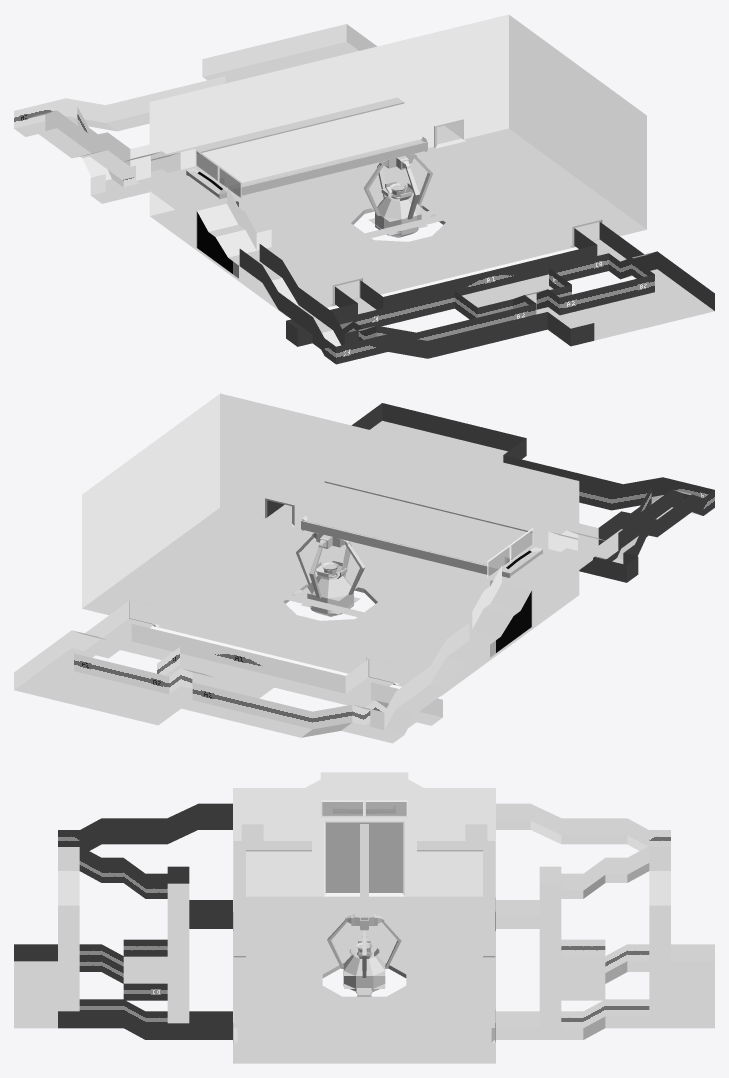
File: Level_Drop_pod_Hanger.glb
3 renders of one model, top to bottom at view 1: azimuth 30°, elevation 25°; view 2: azimuth 150°, elevation 25°; view 3: azimuth 270°, elevation 25°, orthographic. The views are drawn at different scales.
Visible parts, largest first — view 1: TeamA_BigWallSouth-col, Center_Back_Wall-col, TeamA_BigWallNorth-col, Center_Floor_bottomL-col, Center_Floor_bottomR-col, Center_Floor_topL-col, Center_Floor_topR-col, TeamB_Floor-col.009, TeamB_Wall-col.014, Center_control_roomL-col, TeamA_Wall-col.011, Center_WalkwayL-col (+35 smaller); view 2: TeamB_BigWallSouth-col, Center_Back_Wall-col, TeamB_BigWallNorth-col, Center_Floor_bottomR-col, Center_Floor_bottomL-col, Center_Floor_topR-col, Center_Floor_topL-col, TeamA_Floor-col, Center_control_roomR-col, TeamB_Wall-col.013, TeamA_Floor-col.004, TeamA_Floor-col.008 (+32 smaller); view 3: Center_Floor_bottomR-col, Center_Floor_bottomL-col, Center_Floor_topL-col, Center_Floor_topR-col, BackCenter_wall_left-col, BackCenter_wall_right-col, Plane, TeamA_Floor-col, TeamB_Floor-col.009, TeamA_Floor-col.008, TeamA_Wall-col.022, TeamA_Floor-col.005 (+47 smaller).
Part boxes in pixels (bbox=[...]): TeamA_BigWallSouth-col: bbox=[329, 14, 508, 161]; Center_Back_Wall-col: bbox=[509, 15, 646, 229]; TeamA_BigWallNorth-col: bbox=[149, 58, 329, 215]; Center_Floor_bottomL-col: bbox=[421, 179, 646, 273]; Center_Floor_bottomR-col: bbox=[332, 128, 577, 213]; Center_Floor_topL-col: bbox=[219, 231, 466, 317]; Center_Floor_topR-col: bbox=[150, 174, 374, 266]; TeamB_Floor-col.009: bbox=[555, 286, 714, 340]; TeamB_Wall-col.014: bbox=[428, 312, 594, 358]; Center_control_roomL-col: bbox=[159, 183, 282, 265]; TeamA_Wall-col.011: bbox=[226, 24, 369, 70]; Center_WalkwayL-col: bbox=[253, 193, 534, 258]; TeamB_BigWallSouth-col: bbox=[220, 393, 399, 540]; Center_Back_Wall-col: bbox=[82, 394, 219, 608]; TeamB_BigWallNorth-col: bbox=[399, 437, 579, 594]; Center_Floor_bottomR-col: bbox=[82, 558, 307, 652]; Center_Floor_bottomL-col: bbox=[151, 507, 396, 592]; Center_Floor_topR-col: bbox=[262, 610, 509, 696]; Center_Floor_topL-col: bbox=[354, 553, 578, 645]; TeamA_Floor-col: bbox=[14, 665, 192, 725]; Center_control_roomR-col: bbox=[446, 562, 569, 644]; TeamB_Wall-col.013: bbox=[359, 403, 502, 449]; TeamA_Floor-col.004: bbox=[373, 640, 488, 743]; TeamA_Floor-col.008: bbox=[165, 656, 285, 698]; Center_Floor_bottomR-col: bbox=[364, 980, 495, 1063]; Center_Floor_bottomL-col: bbox=[233, 980, 364, 1063]; Center_Floor_topL-col: bbox=[233, 896, 362, 979]; Center_Floor_topR-col: bbox=[366, 896, 495, 979]; BackCenter_wall_left-col: bbox=[233, 788, 320, 896]; BackCenter_wall_right-col: bbox=[408, 788, 495, 896]; Plane: bbox=[325, 822, 403, 892]; TeamA_Floor-col: bbox=[649, 961, 714, 1028]; TeamB_Floor-col.009: bbox=[14, 961, 79, 1028]; TeamA_Floor-col.008: bbox=[539, 956, 605, 1000]; TeamA_Wall-col.022: bbox=[496, 803, 649, 846]; TeamA_Floor-col.005: bbox=[649, 856, 670, 961].
Bounding box in the file's own units: 105 × 30.82 × 160.
Materials: 17 (2 with a texture image).
